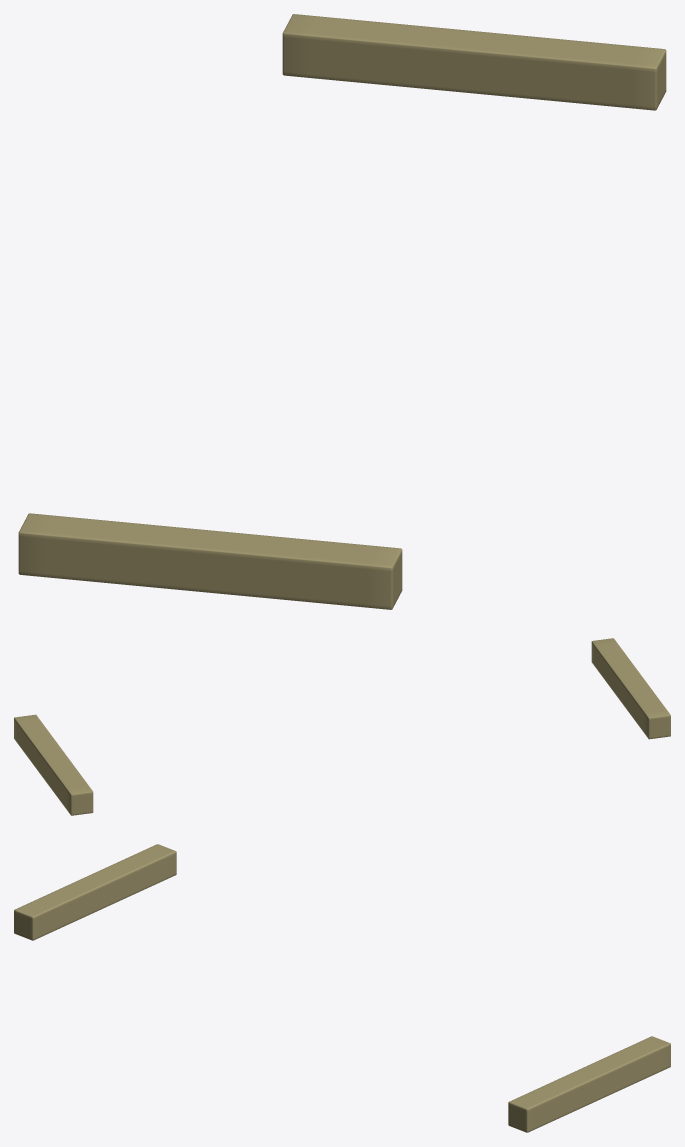
File: RadioPlastic_0002.obj
3 renders of one model, top to bottom at view 1: azimuth 30°, elevation 25°; view 2: azimuth 150°, elevation 25°; view 3: azimuth 270°, elevation 25°, orthographic. The views are drawn at different scales.
Visible parts, largest first — view 1: RadioPlastic_0002; view 2: RadioPlastic_0002; view 3: RadioPlastic_0002.
Part boxes in pixels (bbox=[...]): RadioPlastic_0002: bbox=[18, 14, 666, 609]; RadioPlastic_0002: bbox=[14, 638, 670, 815]; RadioPlastic_0002: bbox=[14, 844, 670, 1132].
Bounding box in the file's own units: 0.1418 × 0.00593 × 0.1482.
